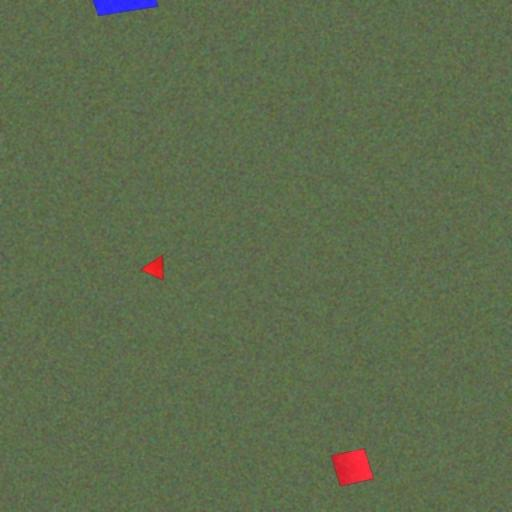RED_SQUARE: (330, 448, 374, 487)
